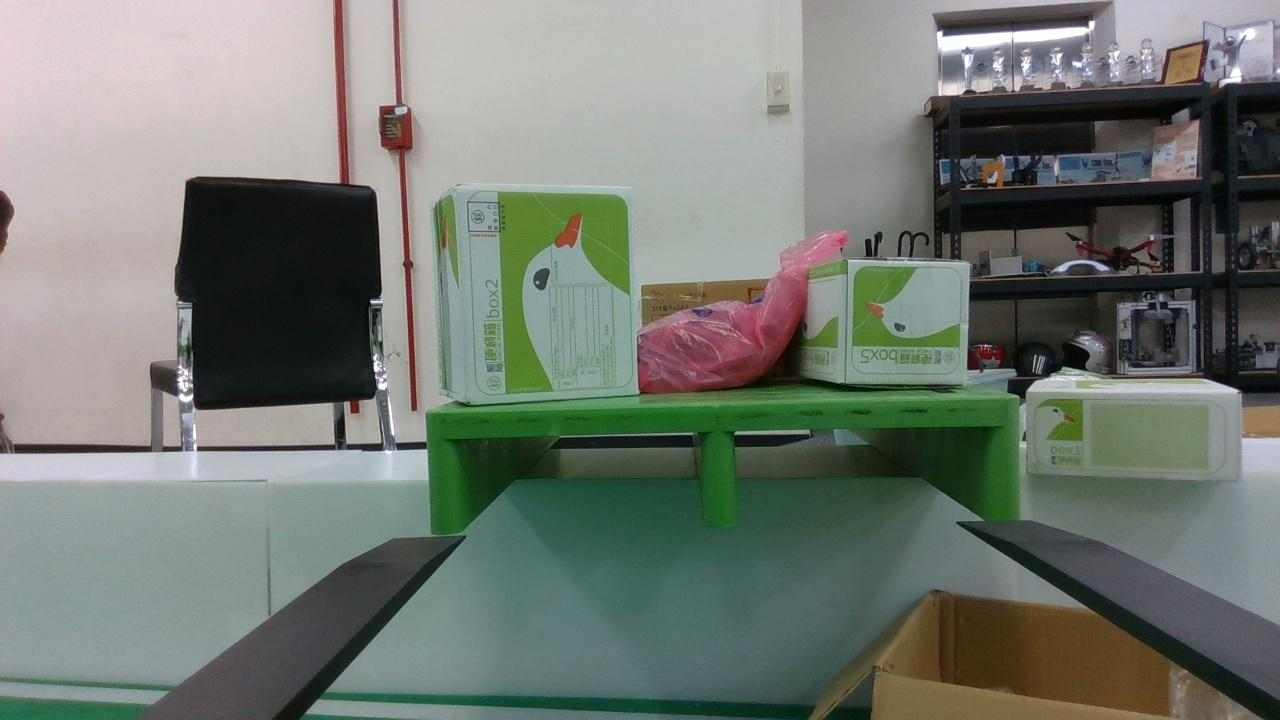Pallet: (426, 396, 1021, 536)
